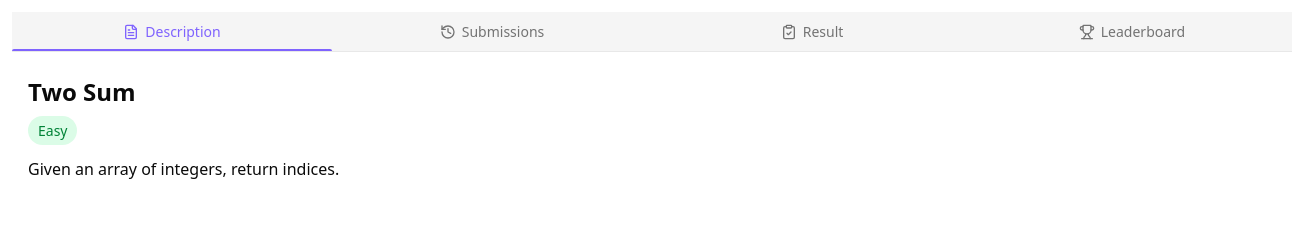
Test: CodeDescArea — submissions tab › shows N/A for null memory and runtime
Expected: the element with test id "tabs-list" is shown, [12,12,1292,52]
Click the tab "Submissions".
click(492, 32)  # box [332,12,652,51]
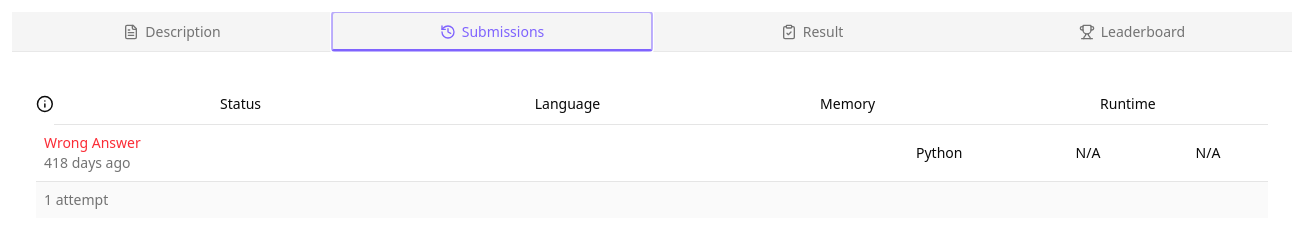
Expected: the row with test id "submission-1" is shown, [36,124,1268,180]
